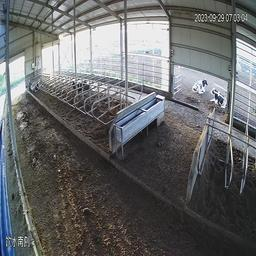cow: (211, 83, 226, 110), (191, 76, 209, 98), (71, 76, 85, 93), (28, 76, 41, 94)
